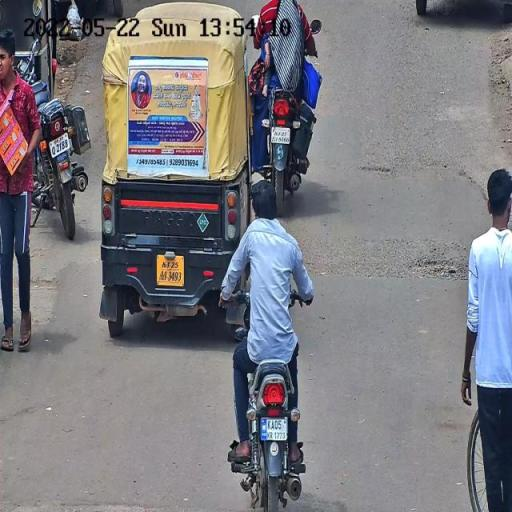numberplate: (260, 416, 288, 442)
using mobile: (252, 210, 262, 222)
